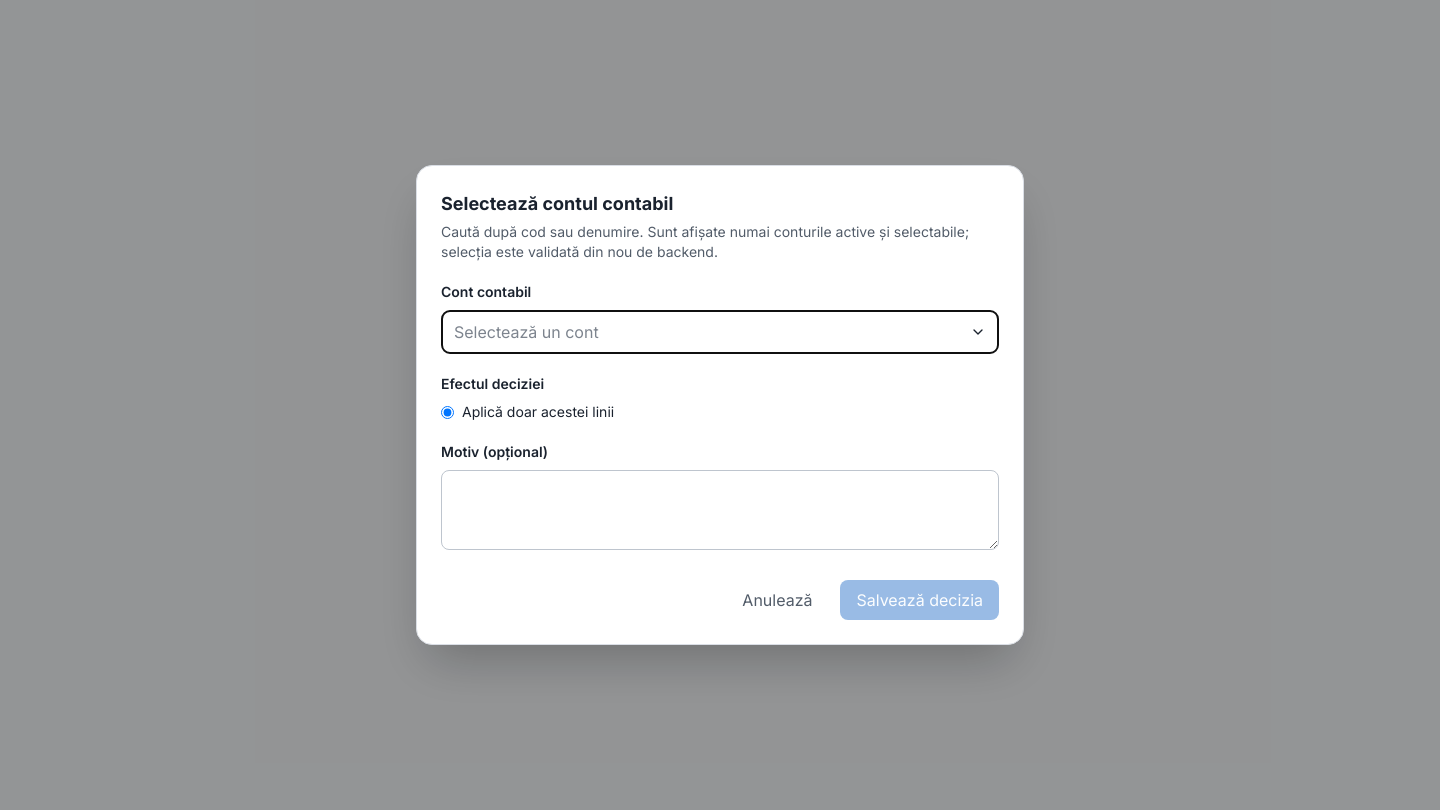
Test case: AccountDecisionDialog › shows the account catalog loading error without allowing an arbitrary value
Click the dropdown named "Cont contabil" at (526, 332), box [441,310,999,354]
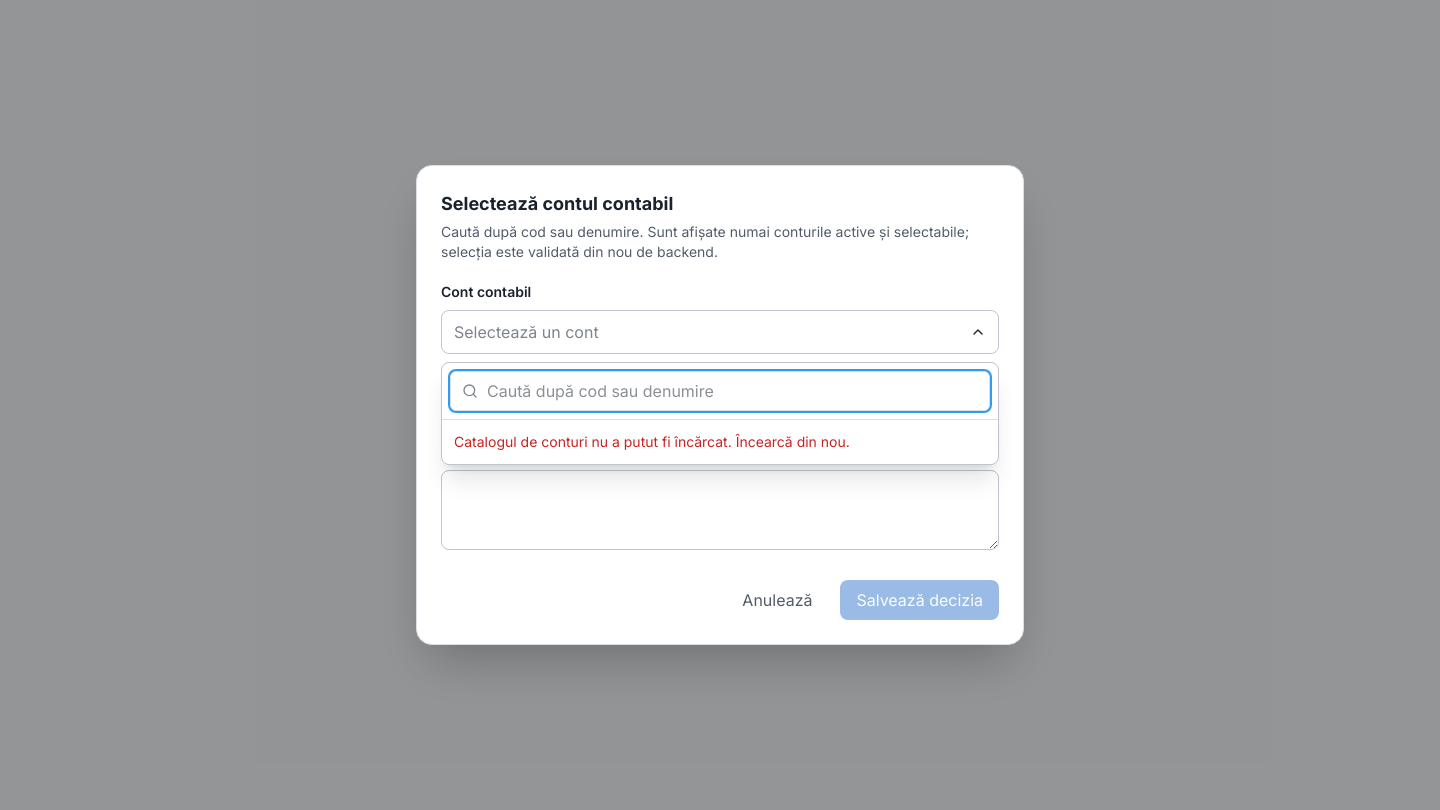
Expected: the button "Salvează decizia" is disabled, [840,580,999,620]
Now the message shows "Catalogul de conturi nu a putut fi încărcat", box [454,433,850,450]
